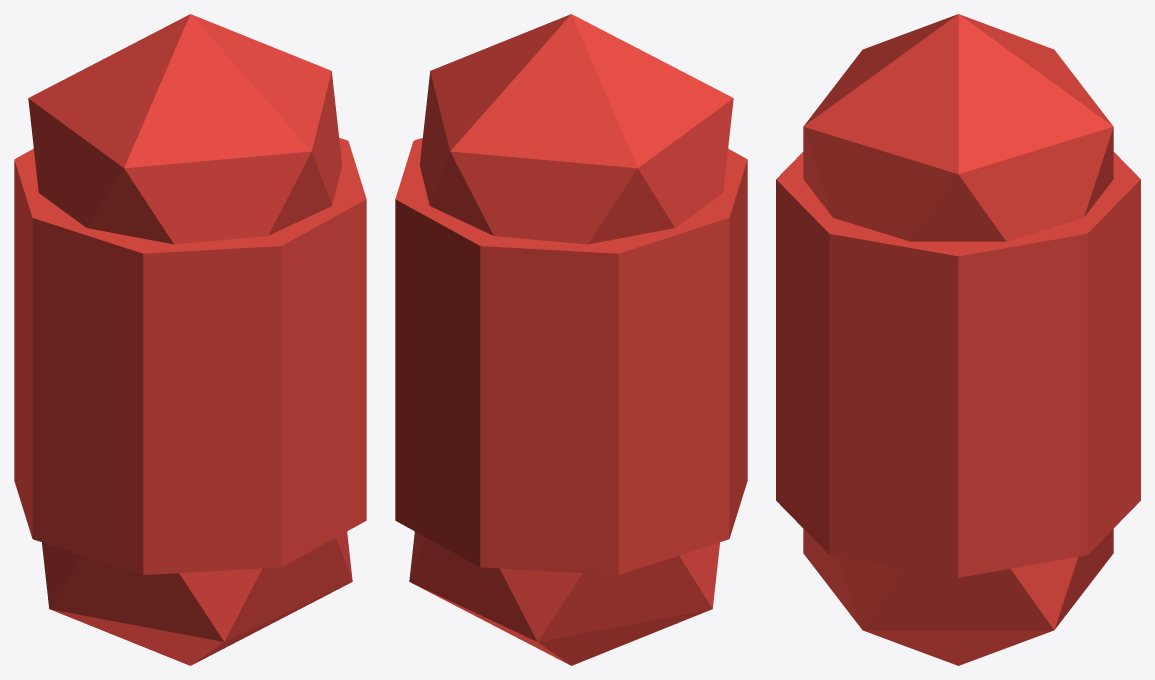
Rendered from capsule_red.glb.
3 renders of one model, left to right at view 1: azimuth 30°, elevation 25°; view 2: azimuth 150°, elevation 25°; view 3: azimuth 270°, elevation 25°, orthographic.
Parts seen in each view (by area): view 1: capsule_red; view 2: capsule_red; view 3: capsule_red.
Boxes of the visible parts, x1,y1,x2,y2 form: capsule_red: [14, 14, 366, 665]; capsule_red: [395, 14, 747, 665]; capsule_red: [776, 14, 1140, 665].
Size of the model in its own units: 0.072 by 0.142 by 0.072.
